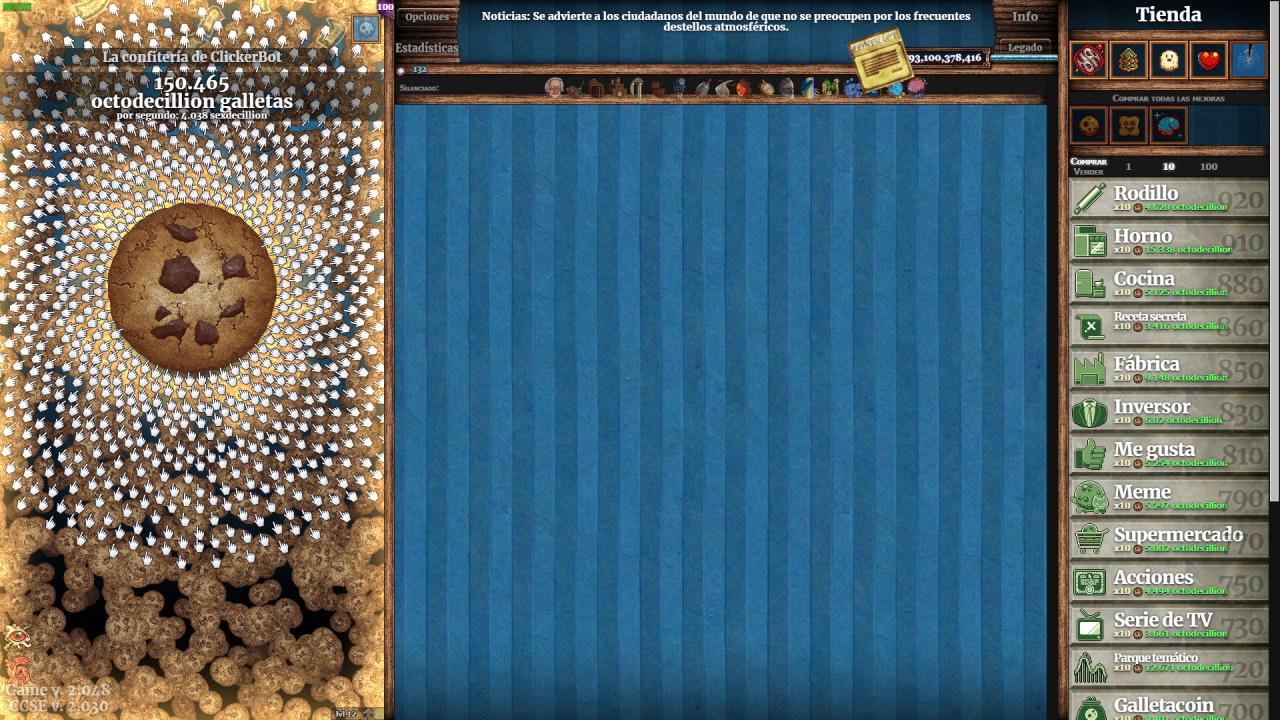GoldenCartridge: (846, 25, 916, 95)
